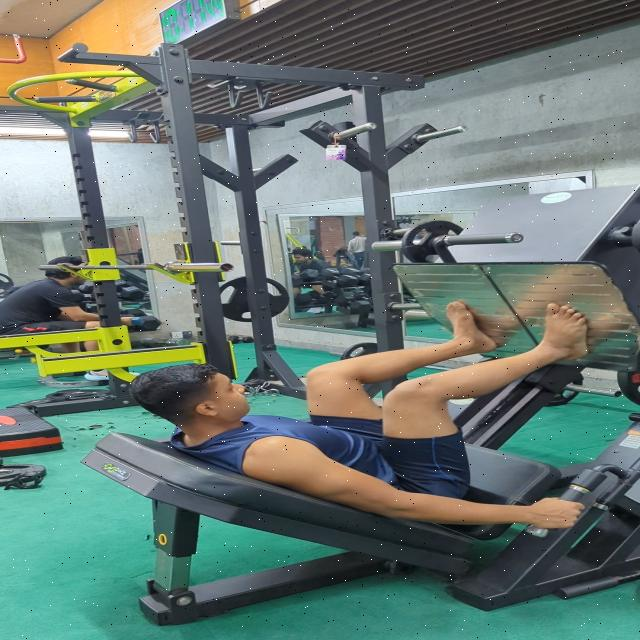Normal_LegPress: (89, 300, 625, 535)
